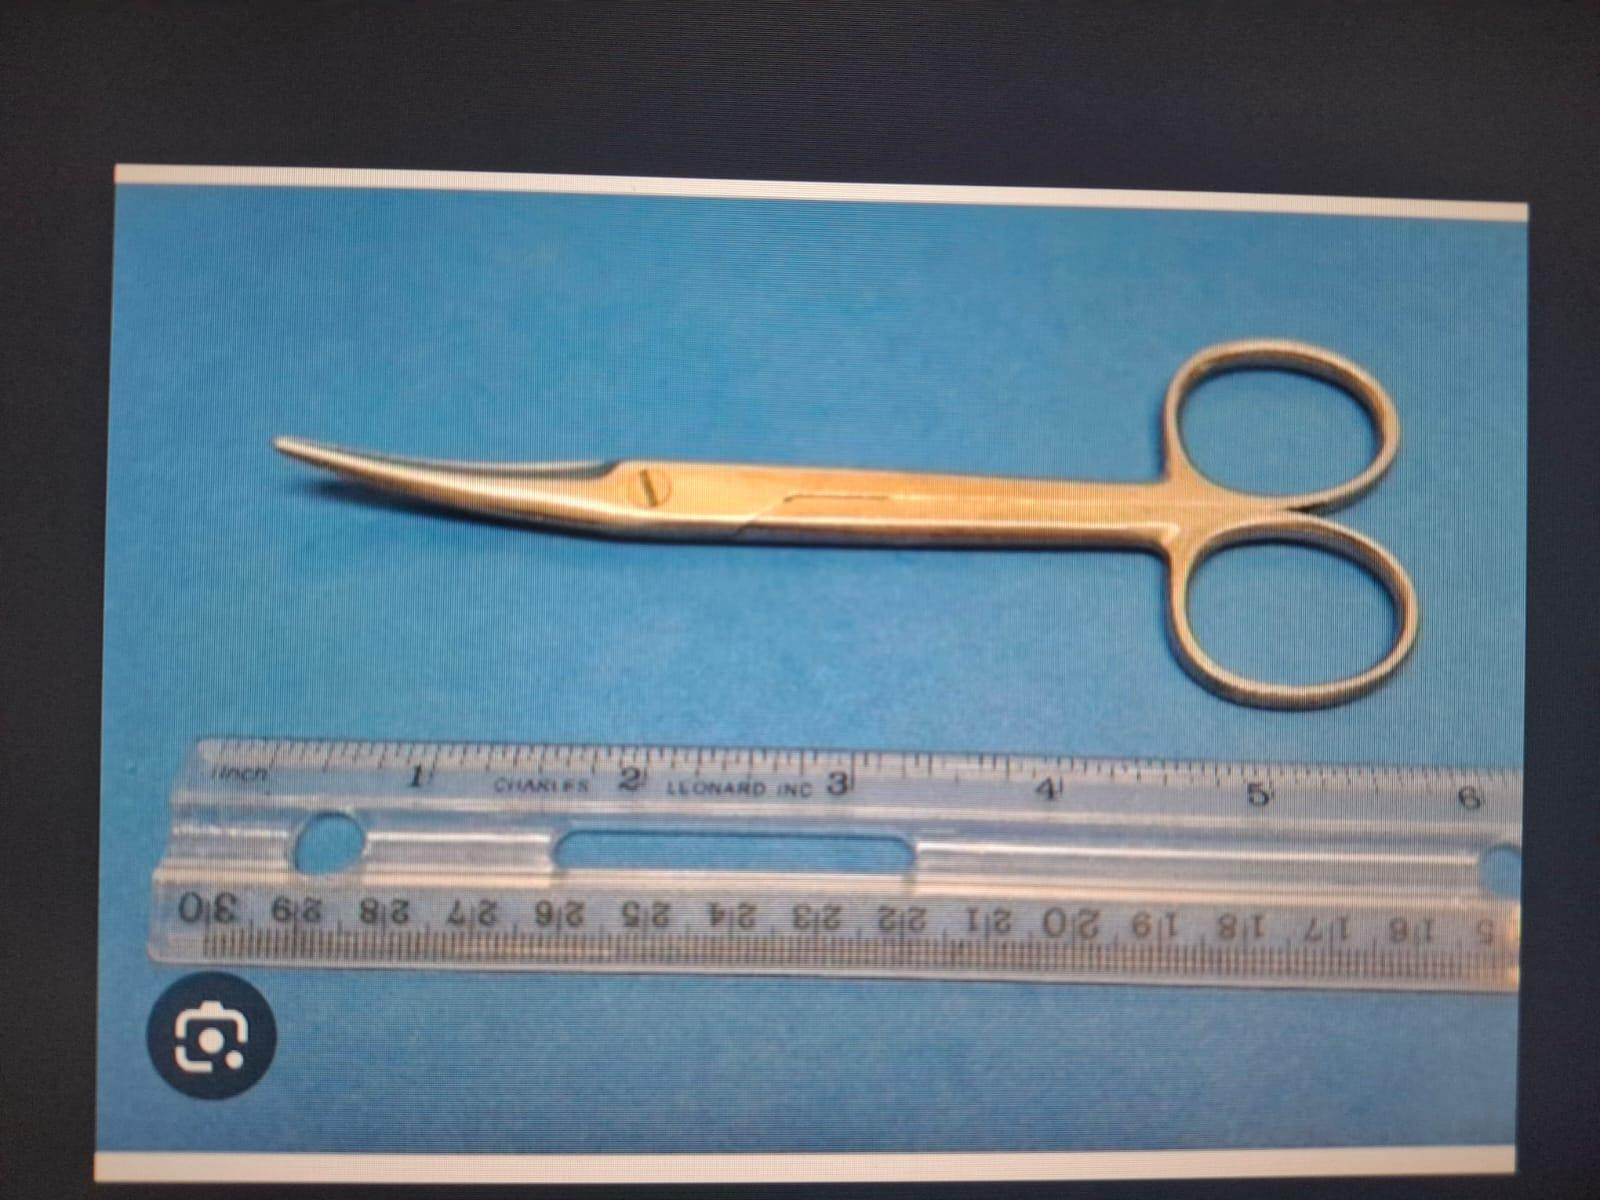Curved Mayo: (244, 304, 1432, 732)
